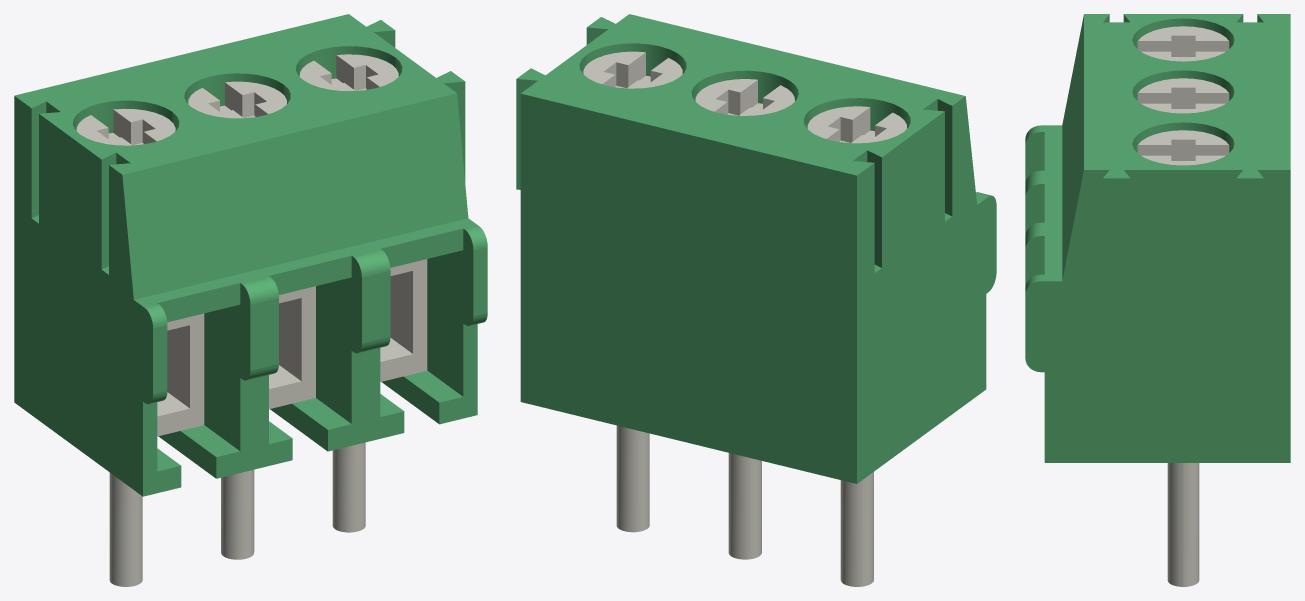
File: kc-terminalblock_phoenix_pt-1_5-3-3.5-h_1x03_p3.50mm_horizontal.glb
The picture shows the model from 3 angles, left to right: view 1: azimuth 30°, elevation 25°; view 2: azimuth 150°, elevation 25°; view 3: azimuth 270°, elevation 25°; orthographic projection. The views are drawn at different scales.
Visible parts, largest first — view 1: 0.08333333333333333_0.4166666666666667_0.16666666666666666_0, 0.6666666666666666_0.6666666666666666_0.5833333333333334_0.8; view 2: 0.08333333333333333_0.4166666666666667_0.16666666666666666_0, 0.6666666666666666_0.6666666666666666_0.5833333333333334_0.8; view 3: 0.08333333333333333_0.4166666666666667_0.16666666666666666_0, 0.6666666666666666_0.6666666666666666_0.5833333333333334_0.8.
Part boxes in pixels (x1,y1,x2,y2): 0.08333333333333333_0.4166666666666667_0.16666666666666666_0: [14, 14, 487, 496]; 0.6666666666666666_0.6666666666666666_0.5833333333333334_0.8: [76, 54, 427, 586]; 0.08333333333333333_0.4166666666666667_0.16666666666666666_0: [516, 14, 996, 483]; 0.6666666666666666_0.6666666666666666_0.5833333333333334_0.8: [583, 51, 906, 586]; 0.08333333333333333_0.4166666666666667_0.16666666666666666_0: [1025, 14, 1290, 462]; 0.6666666666666666_0.6666666666666666_0.5833333333333334_0.8: [1137, 26, 1229, 586].
Size of the model in its own units: 1.11 by 1.37 by 0.7549.
